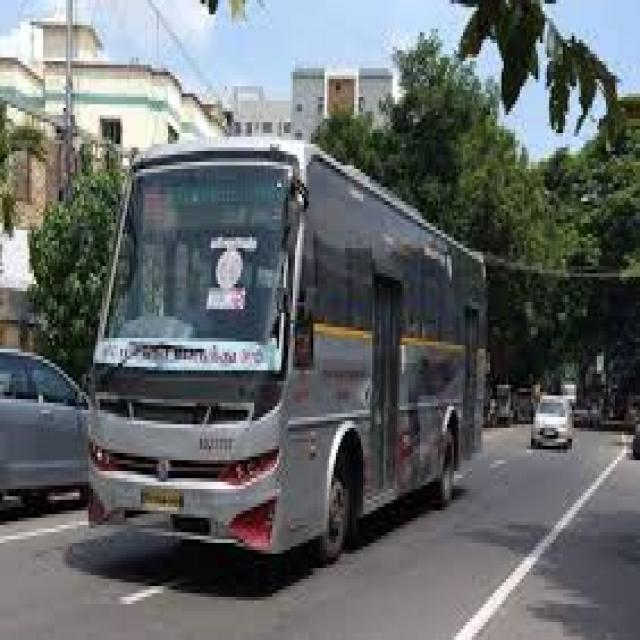Bus: (81, 153, 495, 531)
